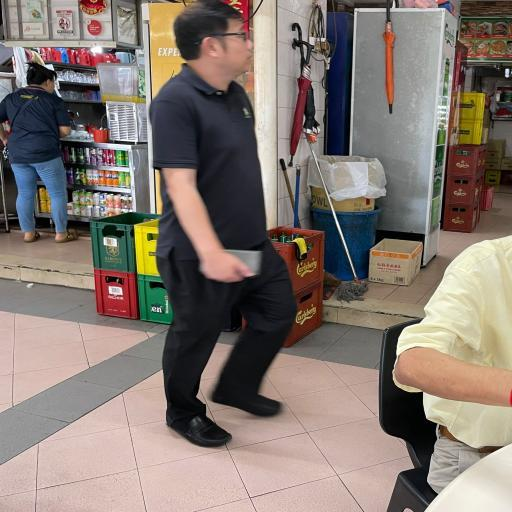person_right: (143, 0, 290, 445)
